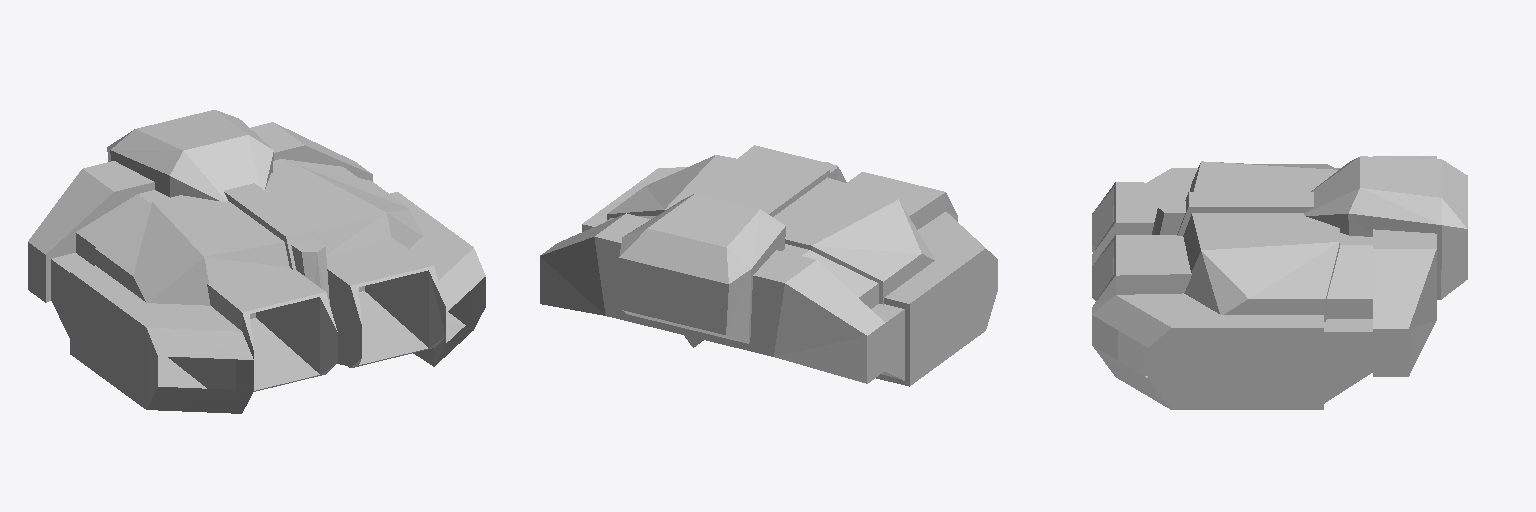
3 views of the same model, side by side, from view 1: azimuth 30°, elevation 25°; view 2: azimuth 150°, elevation 25°; view 3: azimuth 270°, elevation 25° (orthographic).
Parts seen in each view (by area): view 1: Osca31, Osca12, Osca23, 0sca26dock, Osca9, 0sca10dock, Oscatopsides, Osca27, 0scatopback, 1sca21, Osca20, Osca15 (+9 smaller); view 2: Osca31, Osca18, Osca9, Osca30, Osca27, 0sca42, Oscabackin, Oscatopsides, 0scatopback, Osca23, Osca20, 0scatopmidback (+6 smaller); view 3: Osca31, Osca9, Osca23, Osca27, Oscatopsides, 0scatopback, Osca12, 1sca25, Osca30, Osca16, Osca20, 1sca21 (+9 smaller).
Part boxes in pixels (bbox=[...]): Osca31: bbox=[95, 166, 422, 305]; Osca12: bbox=[146, 248, 485, 413]; Osca23: bbox=[207, 238, 433, 367]; 0sca26dock: bbox=[168, 270, 470, 389]; Osca9: bbox=[70, 272, 433, 408]; 0sca10dock: bbox=[158, 291, 465, 390]; Oscatopsides: bbox=[70, 192, 473, 331]; Osca27: bbox=[110, 110, 271, 196]; 0scatopback: bbox=[28, 123, 372, 302]; 1sca21: bbox=[236, 272, 485, 390]; Osca20: bbox=[224, 183, 318, 269]; Osca15: bbox=[184, 135, 259, 200]; Osca31: bbox=[607, 155, 934, 303]; Osca18: bbox=[540, 237, 866, 383]; Osca9: bbox=[582, 224, 985, 386]; Osca30: bbox=[619, 228, 750, 343]; Osca27: bbox=[624, 193, 785, 342]; 0sca42: bbox=[619, 258, 728, 334]; Oscabackin: bbox=[594, 237, 784, 356]; Oscatopsides: bbox=[583, 167, 985, 303]; 0scatopback: bbox=[540, 214, 884, 335]; Osca23: bbox=[738, 145, 945, 229]; Osca20: bbox=[695, 162, 830, 346]; 0scatopmidback: bbox=[595, 213, 815, 282]; Osca31: bbox=[1183, 161, 1339, 319]; Osca9: bbox=[1172, 328, 1323, 409]; Osca23: bbox=[1116, 182, 1191, 294]; Osca27: bbox=[1348, 156, 1441, 299]; Oscatopsides: bbox=[1117, 168, 1323, 327]; 0scatopback: bbox=[1373, 249, 1436, 328]; Osca12: bbox=[1092, 182, 1170, 409]; 1sca25: bbox=[1324, 319, 1372, 403]; Osca30: bbox=[1441, 160, 1467, 299]; Osca16: bbox=[1327, 168, 1372, 318]; Osca20: bbox=[1177, 192, 1313, 235]; 1sca21: bbox=[1092, 188, 1117, 359].
Bounding box in the file's own units: 459 × 225 × 456.